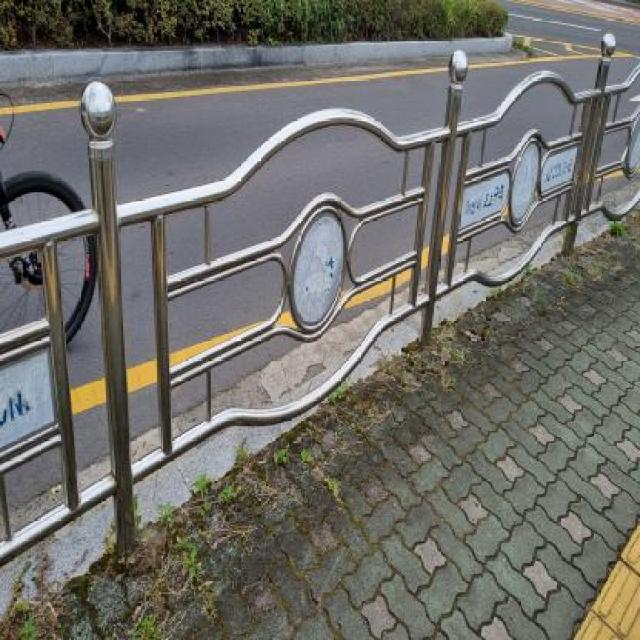fence: (0, 86, 368, 586), (382, 33, 630, 377)
